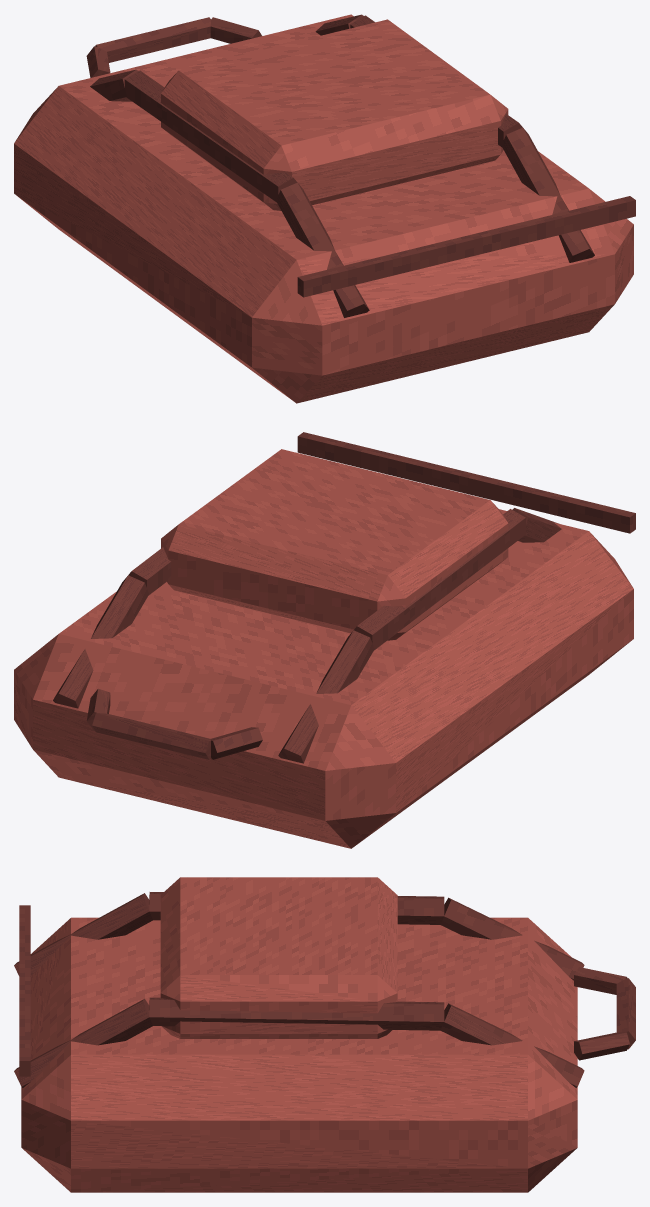
File: daypack.glb
3 renders of one model, top to bottom at view 1: azimuth 30°, elevation 25°; view 2: azimuth 150°, elevation 25°; view 3: azimuth 270°, elevation 25°, orthographic. The views are drawn at different scales.
Parts seen in each view (by area): view 1: block_bag shell, block_front pocket, block_zipper, block_webbing strap 2 (×2), block_webbing strap 1 (×2), block_carry handle 1, block_carry handle 2, block_webbing strap 0, block_carry handle 0; view 2: block_bag shell, block_front pocket, block_zipper, block_webbing strap 0 (×2), block_webbing strap 1 (×2), block_carry handle 1, block_carry handle 0, block_webbing strap 2; view 3: block_bag shell, block_front pocket, block_webbing strap 1 (×2), block_webbing strap 2 (×2), block_webbing strap 0 (×2), block_zipper, block_carry handle 1, block_carry handle 2, block_carry handle 0.
Boxes of the visible parts, bbox=[...] form: block_bag shell: bbox=[14, 14, 633, 403]; block_front pocket: bbox=[161, 19, 508, 210]; block_zipper: bbox=[297, 196, 635, 297]; block_webbing strap 2 (×2): bbox=[276, 127, 594, 317]; block_webbing strap 1 (×2): bbox=[124, 15, 523, 203]; block_carry handle 1: bbox=[95, 17, 210, 62]; block_carry handle 2: bbox=[210, 17, 261, 43]; block_webbing strap 0: bbox=[90, 69, 138, 101]; block_carry handle 0: bbox=[86, 46, 110, 77]; block_bag shell: bbox=[14, 509, 633, 848]; block_front pocket: bbox=[161, 449, 508, 640]; block_zipper: bbox=[297, 432, 635, 533]; block_webbing strap 0 (×2): bbox=[53, 575, 374, 763]; block_webbing strap 1 (×2): bbox=[128, 509, 525, 650]; block_carry handle 1: bbox=[92, 713, 210, 759]; block_carry handle 0: bbox=[211, 727, 262, 759]; block_webbing strap 2: bbox=[512, 508, 561, 542]; block_bag shell: bbox=[21, 917, 577, 1192]; block_front pocket: bbox=[160, 877, 397, 1038]; block_webbing strap 1 (×2): bbox=[149, 892, 444, 1030]; block_webbing strap 2 (×2): bbox=[14, 893, 152, 1087]; block_webbing strap 0 (×2): bbox=[440, 897, 584, 1087]; block_zipper: bbox=[19, 905, 30, 1076]; block_carry handle 1: bbox=[616, 978, 635, 1049]; block_carry handle 2: bbox=[574, 1032, 629, 1060]; block_carry handle 0: bbox=[574, 967, 627, 994].
Bounding box in the file's own units: 0.1745 × 0.09 × 0.2561.
1 material, 1 textured.
